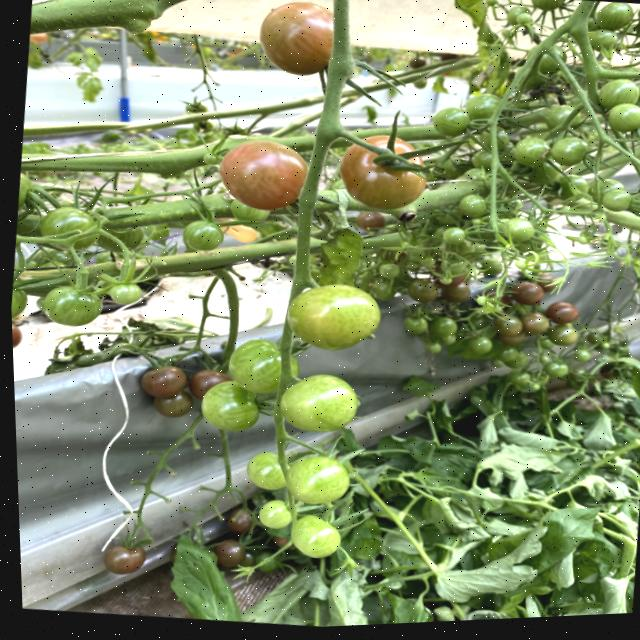ripe0: (285, 281, 384, 353), (278, 372, 360, 435), (285, 454, 352, 507), (228, 338, 295, 391), (200, 379, 262, 433), (43, 285, 104, 327), (290, 513, 343, 560), (244, 450, 289, 492), (182, 219, 224, 252)
ripe1: (337, 131, 429, 211), (216, 137, 310, 215), (256, 0, 334, 78), (140, 365, 188, 400), (101, 541, 146, 575), (512, 280, 545, 306), (546, 301, 579, 325)
